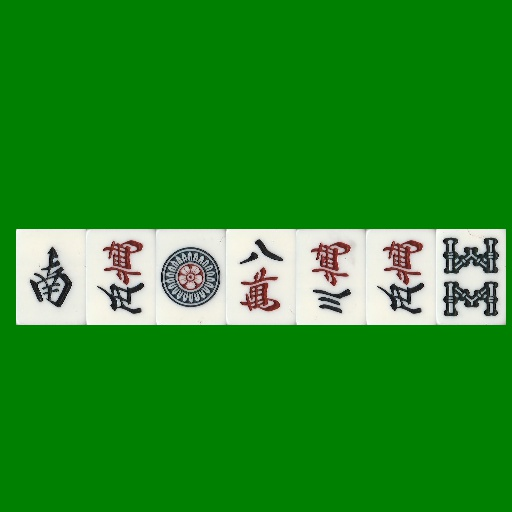1p: (156, 229, 226, 325)
3m: (296, 229, 366, 325)
5m: (86, 229, 156, 325), (366, 229, 436, 325)
8m: (226, 229, 296, 325)
8s: (436, 229, 506, 325)
south: (16, 229, 86, 325)
